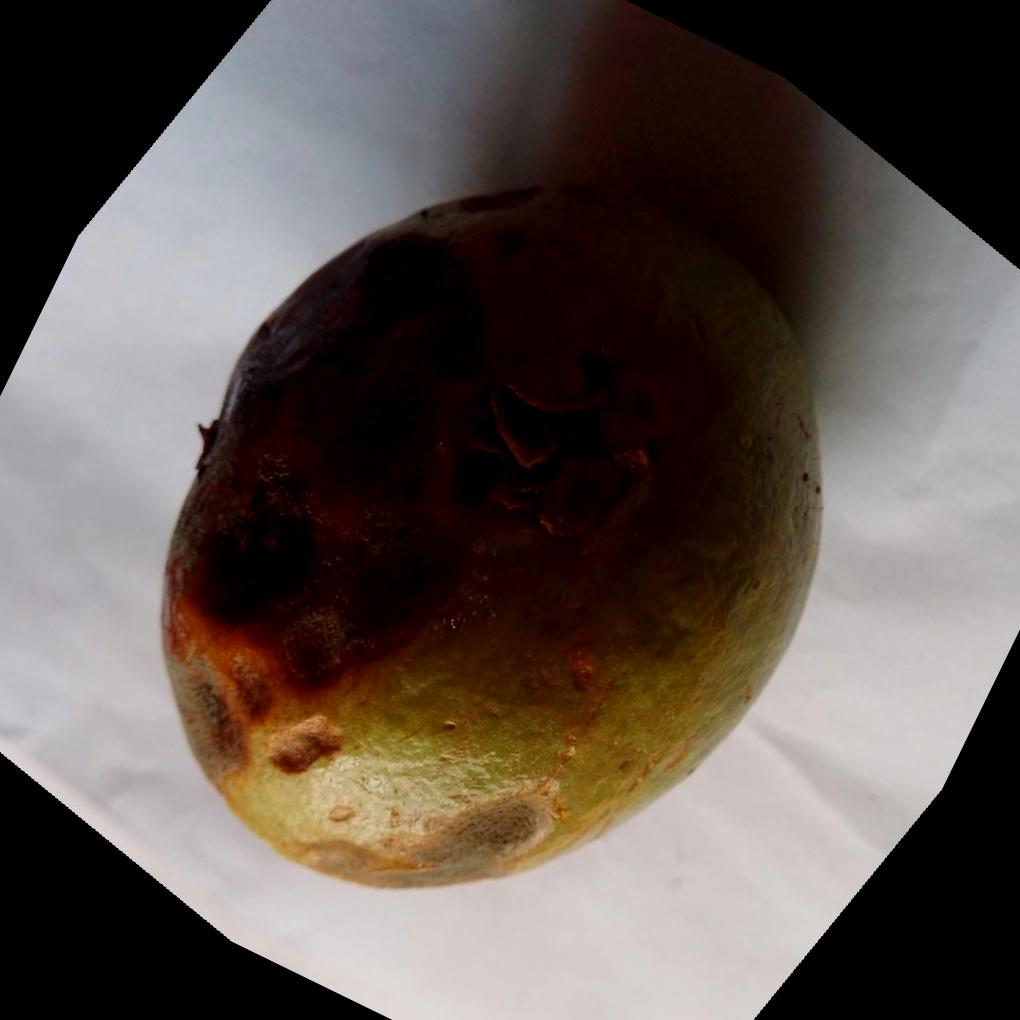FreshOrange: (158, 176, 827, 888)
